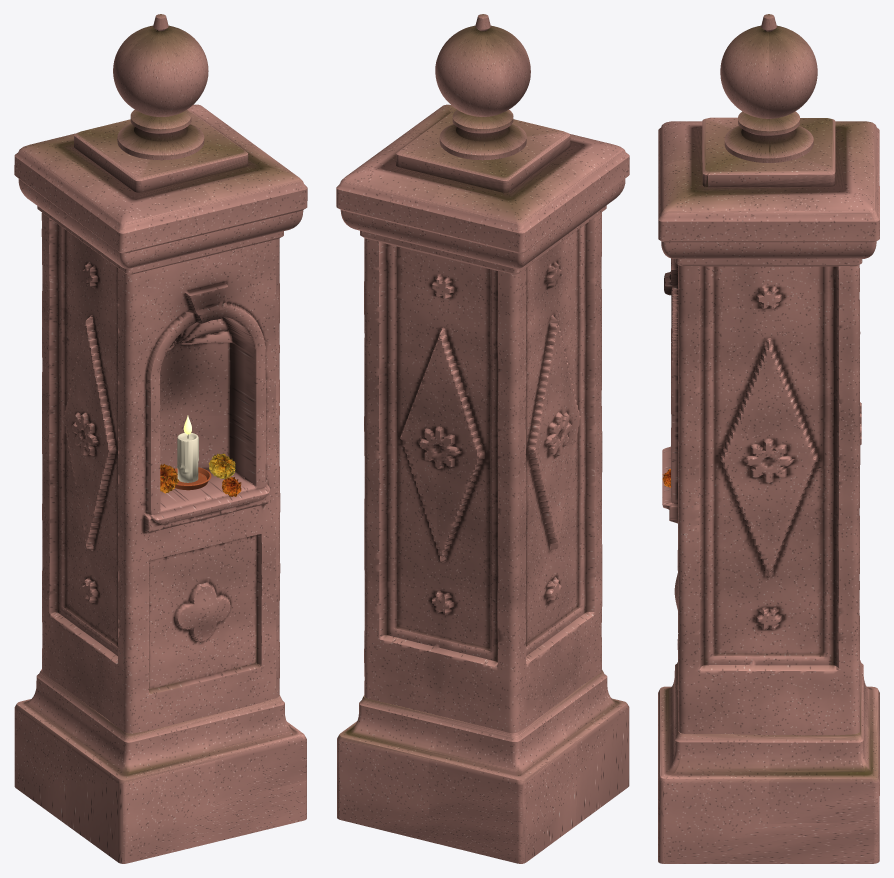
Rendered from w3_court_gatepost.glb.
The picture shows the model from 3 angles, left to right: view 1: azimuth 30°, elevation 25°; view 2: azimuth 150°, elevation 25°; view 3: azimuth 270°, elevation 25°; orthographic projection.
Parts seen in each view (by area): view 1: w3_court_gatepost; view 2: w3_court_gatepost; view 3: w3_court_gatepost.
Part boxes in pixels (left/top/right/bottom): w3_court_gatepost: left=14, top=14, right=307, bottom=863; w3_court_gatepost: left=336, top=14, right=629, bottom=863; w3_court_gatepost: left=658, top=14, right=879, bottom=863.
Size of the model in its own units: 0.5006 by 2 by 0.5009.
Materials: 5 (3 with a texture image).
